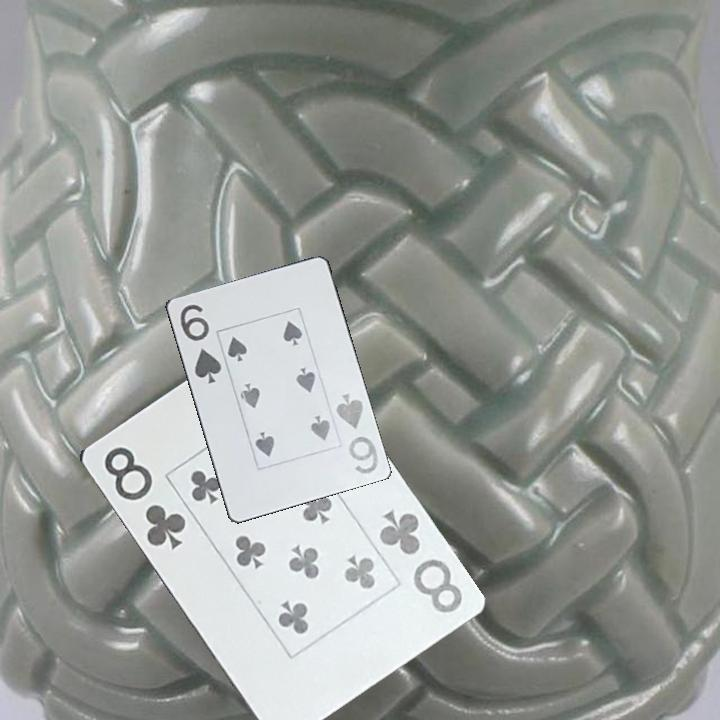6s: (332, 389, 381, 477), (176, 300, 224, 387)
8c: (374, 505, 465, 616), (99, 442, 189, 553)
